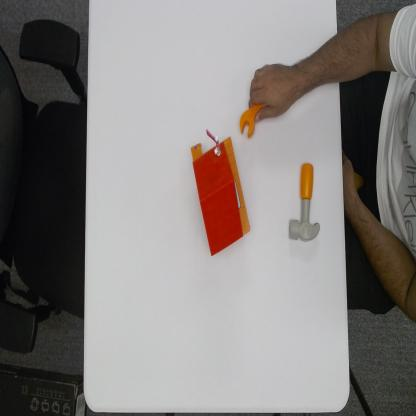Arm: (290, 37, 338, 94)
Hammer: (288, 158, 321, 244)
Hand: (249, 60, 297, 122)
House: (190, 131, 251, 258)
Screwdriver: (240, 100, 263, 137)
